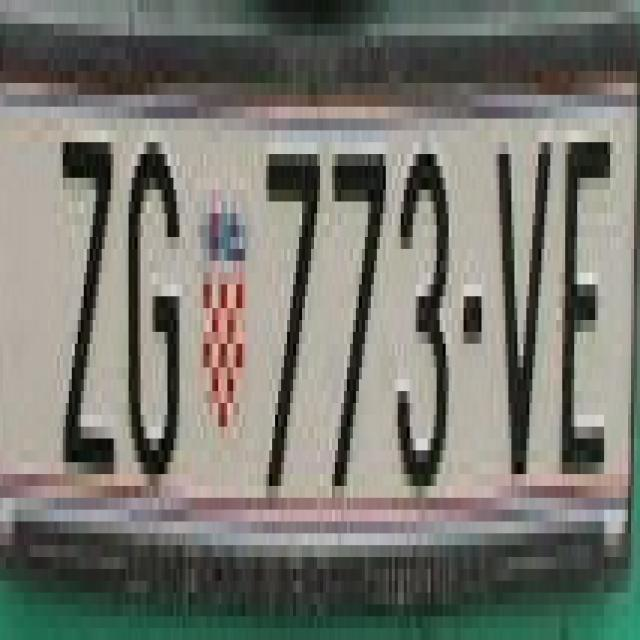3: (394, 142, 448, 522)
7: (332, 130, 386, 498), (263, 130, 314, 498)
E: (556, 106, 607, 486)
G: (126, 118, 186, 474)
V: (494, 118, 550, 510)
Z: (54, 106, 116, 486)
